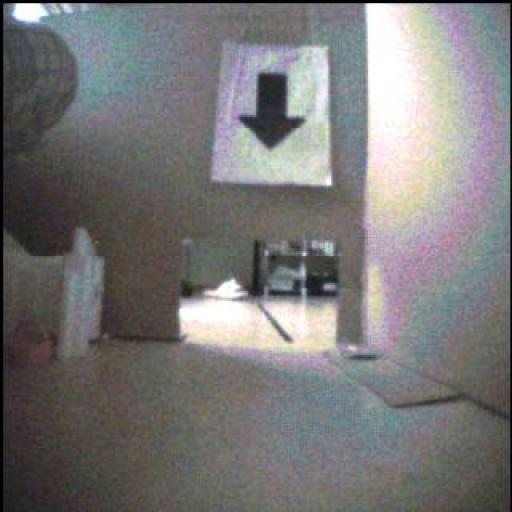arrow: (241, 75, 307, 150)
